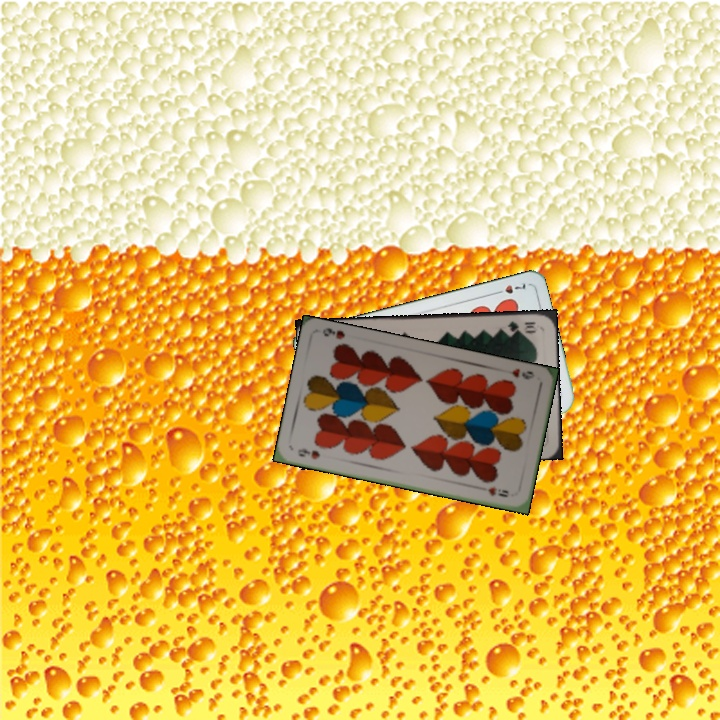G10: (504, 317, 540, 335)
H7: (490, 279, 528, 297)
H9: (293, 444, 322, 462), (508, 365, 537, 382)
